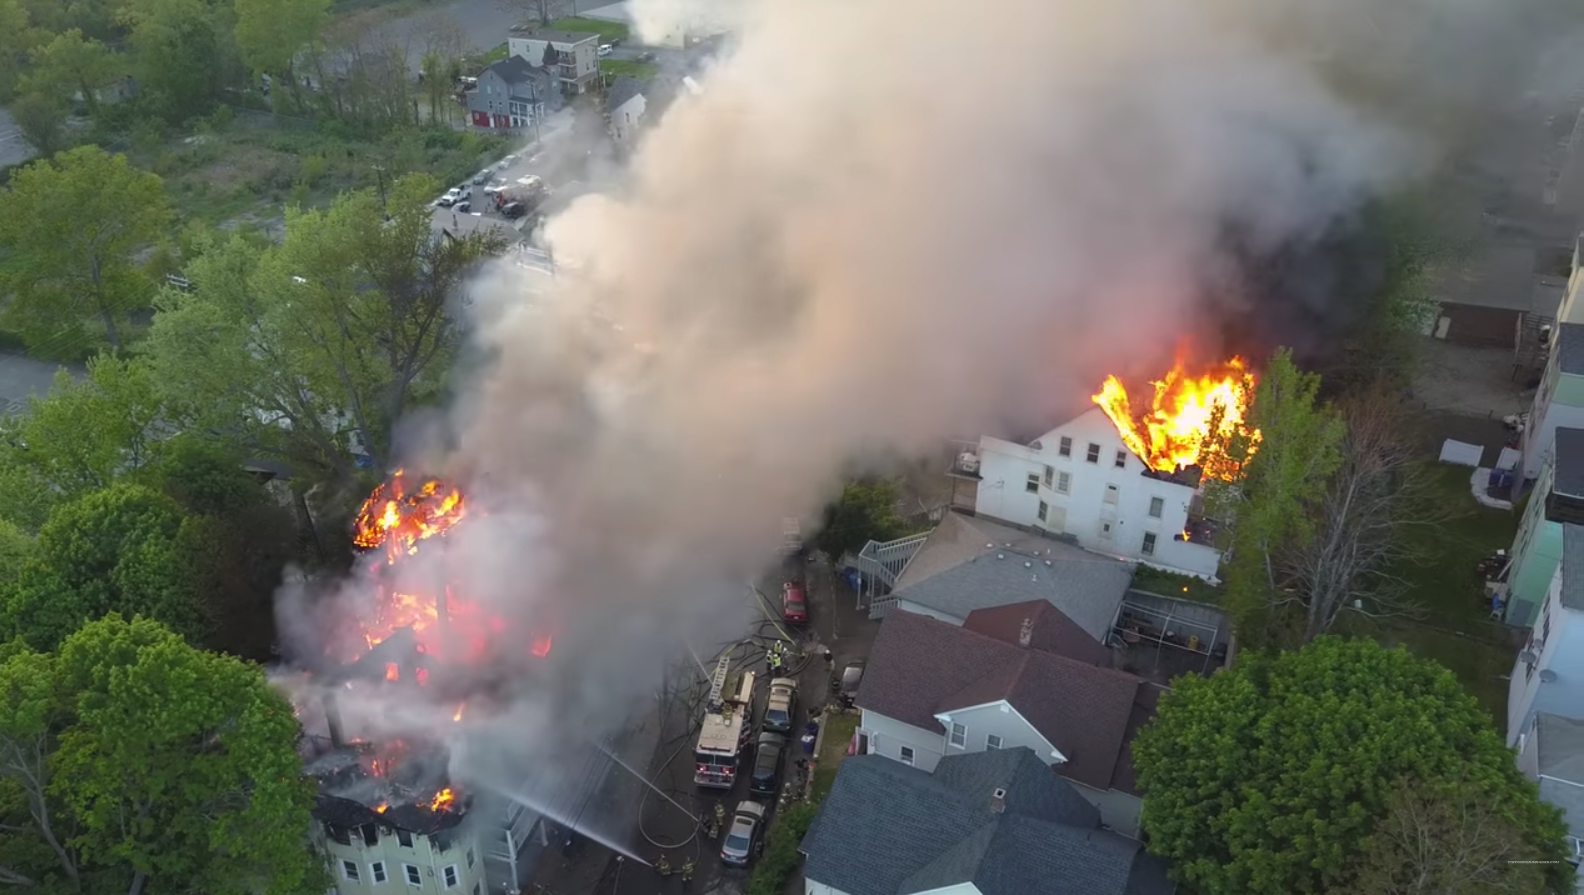fire: (338, 458, 565, 749), (1081, 327, 1283, 508)
